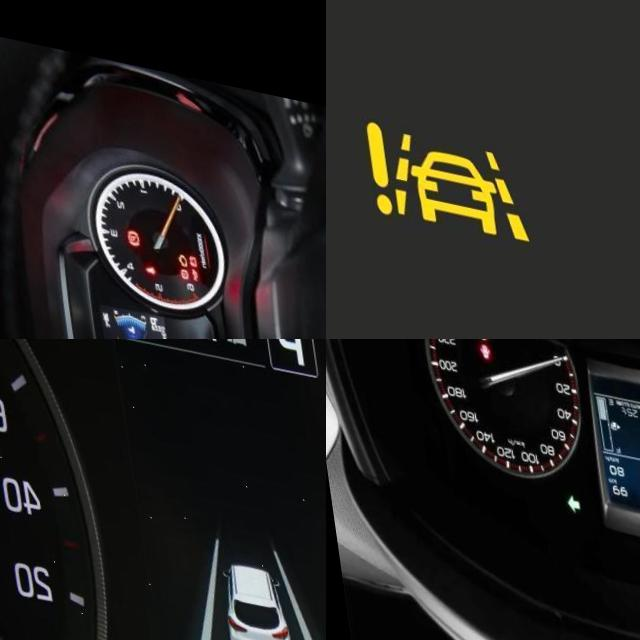Seat Belt: (139, 252, 151, 262)
